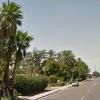Palm tree: (2, 1, 33, 95)
